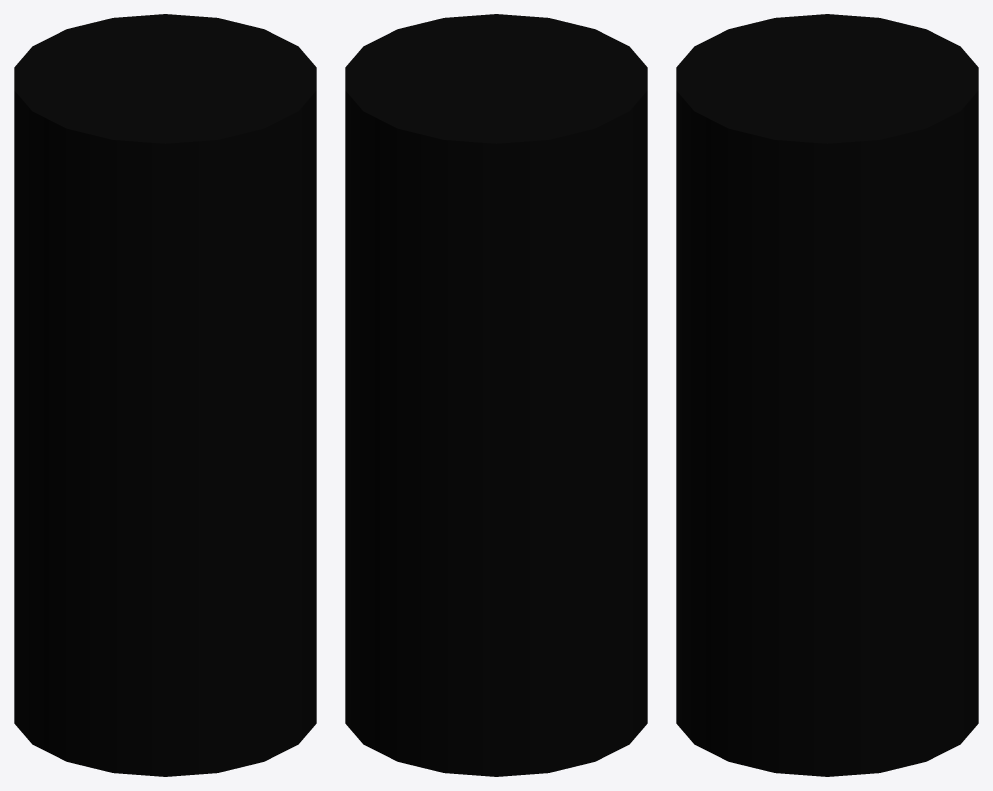
File: zhuzi.FBX
The picture shows the model from 3 angles, left to right: view 1: azimuth 30°, elevation 25°; view 2: azimuth 150°, elevation 25°; view 3: azimuth 270°, elevation 25°; orthographic projection.
Parts seen in each view (by area): view 1: Cone001; view 2: Cone001; view 3: Cone001.
Boxes of the visible parts, box(x1,y1,x2,y2) form: Cone001: box(14, 14, 316, 776); Cone001: box(345, 14, 647, 776); Cone001: box(676, 14, 978, 776).
Bounding box in the file's own units: 60 × 136 × 59.09.
